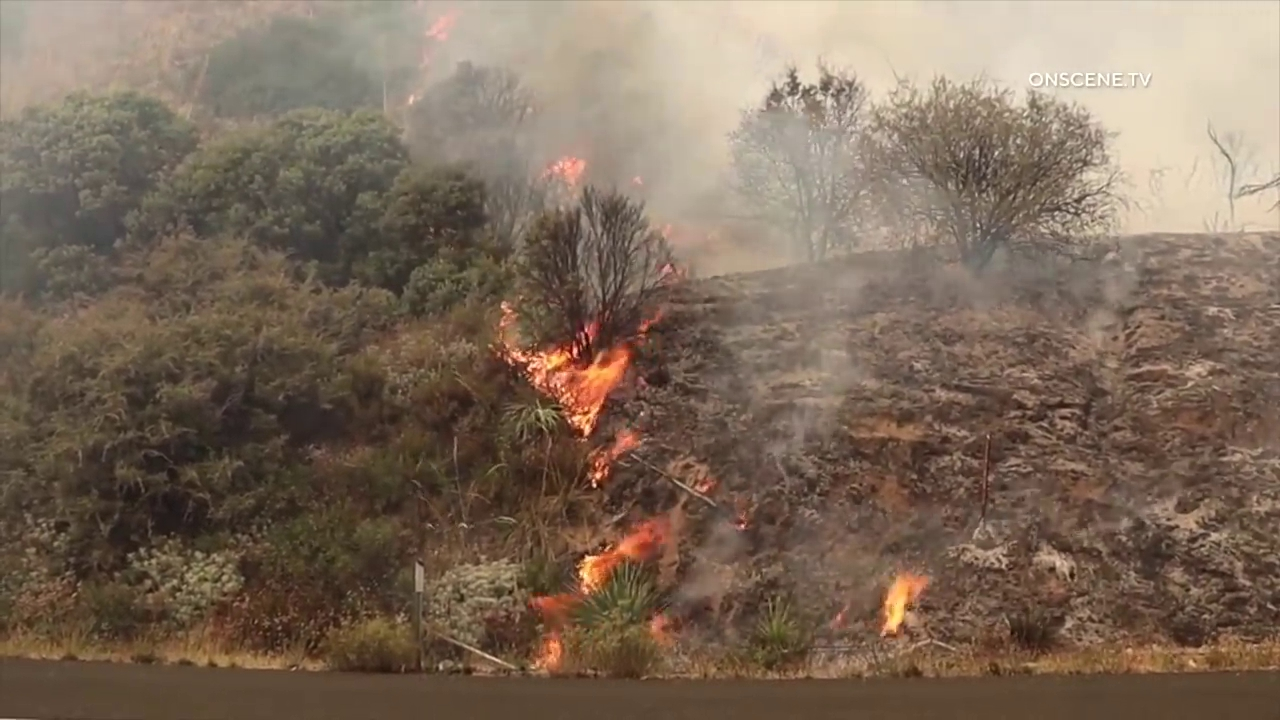forest_fire: (533, 521, 666, 670), (502, 321, 633, 438), (587, 430, 639, 488), (881, 573, 928, 636), (544, 156, 585, 188), (499, 301, 516, 337)
